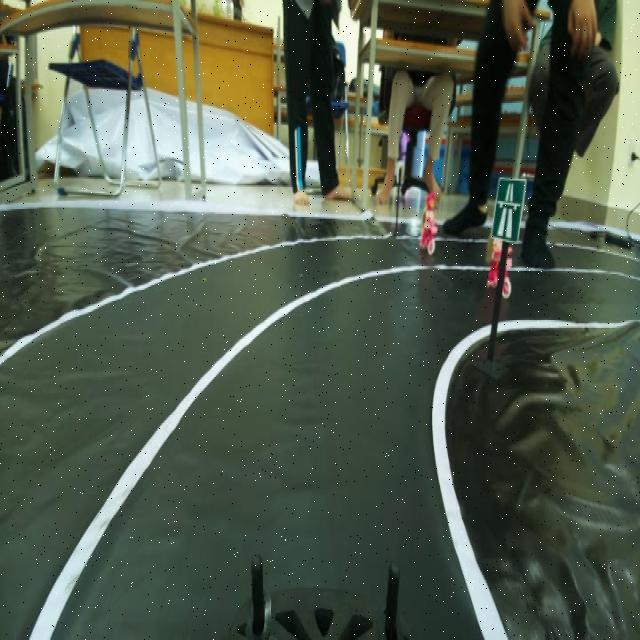highway_entry: (490, 170, 526, 242)
pedestrian: (413, 183, 451, 254), (484, 244, 516, 298)
